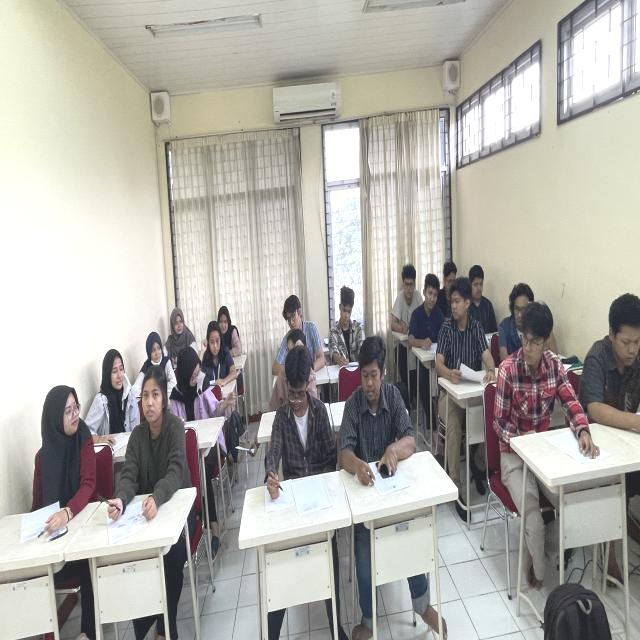phone: (370, 449, 400, 478)
